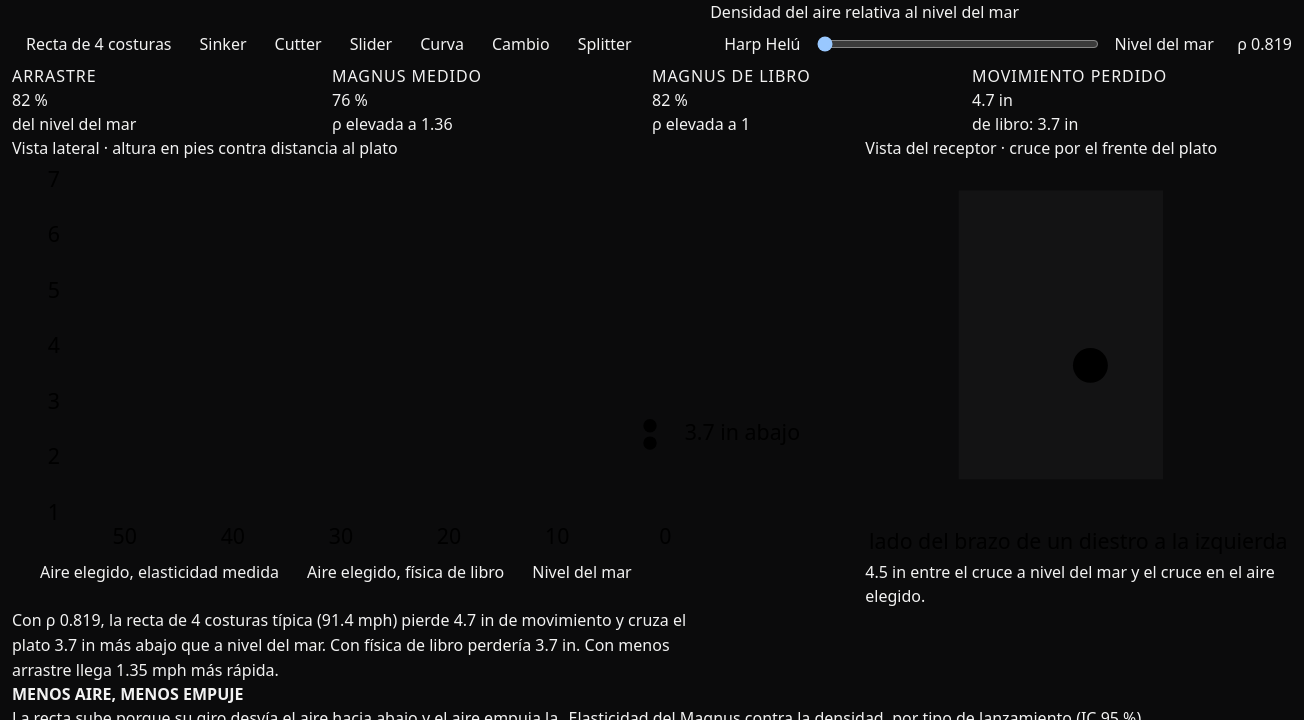
Test: física: el mismo lanzamiento en dos aires › shows the measured elasticity next to textbook physics and updates with the density
Click the button "Nivel del mar".
click(1164, 44)  # box [1100,24,1228,64]
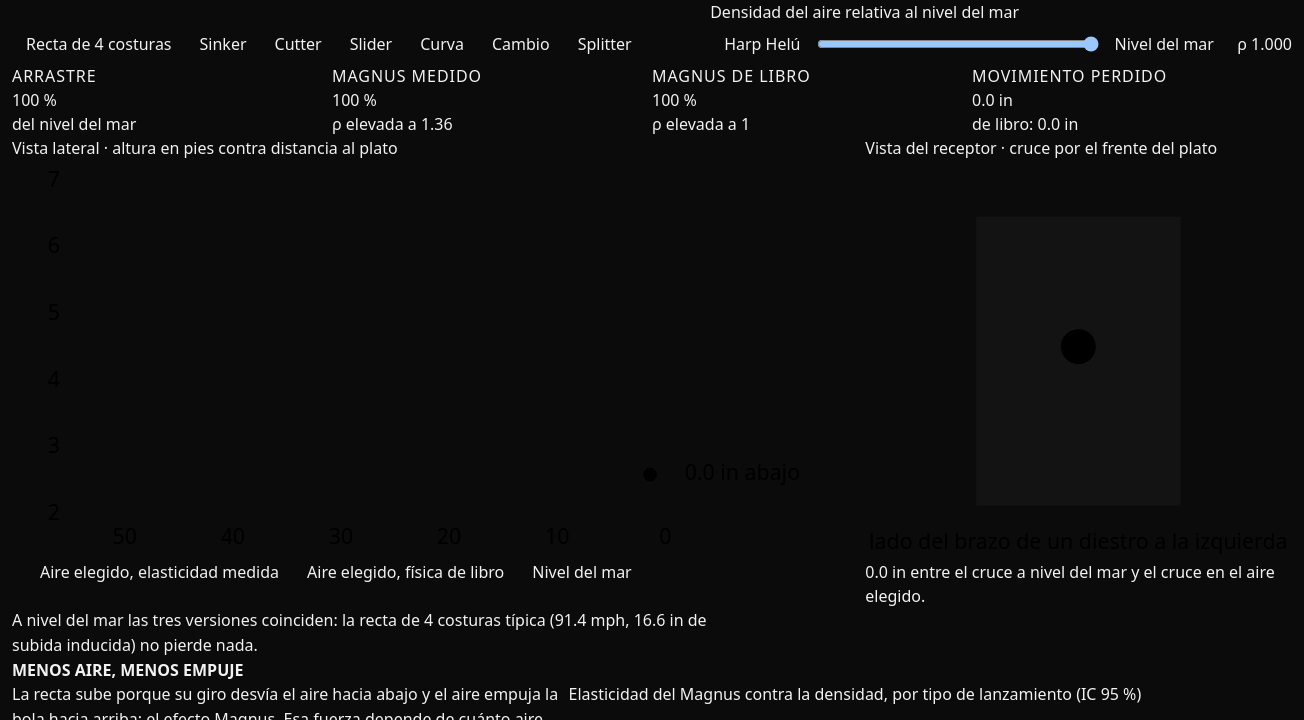
Check: the text "las tres versiones coinciden" is shown, box [12,609,707,656]
Click the radio button labelled "Curva".
click(442, 44)  # box [406,24,478,64]
(page scrolled)
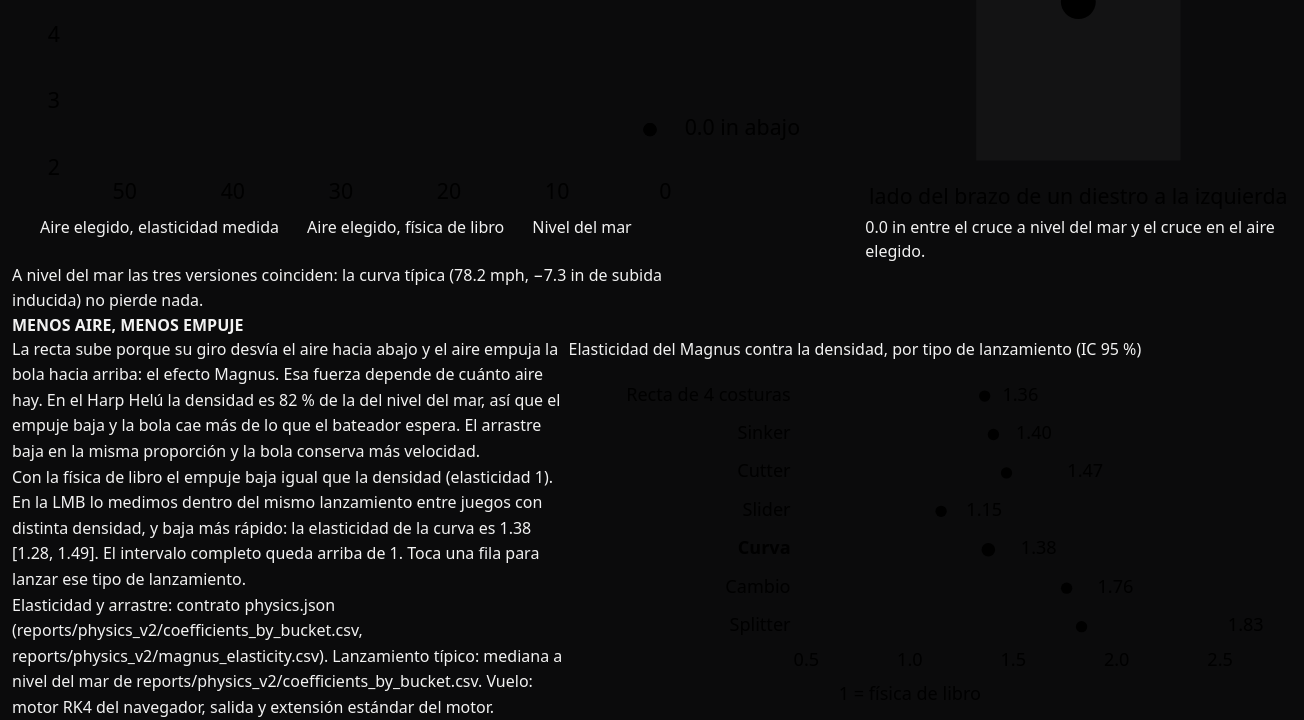
Check: the text "la curva típica" is shown, box [12,264,662,311]
